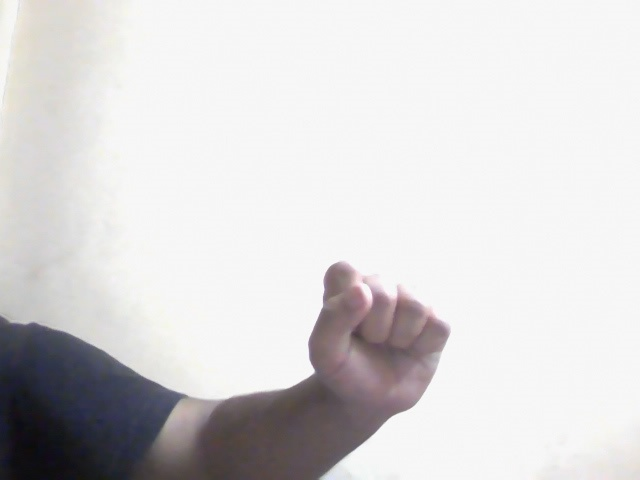Yes: (274, 239, 484, 453)
